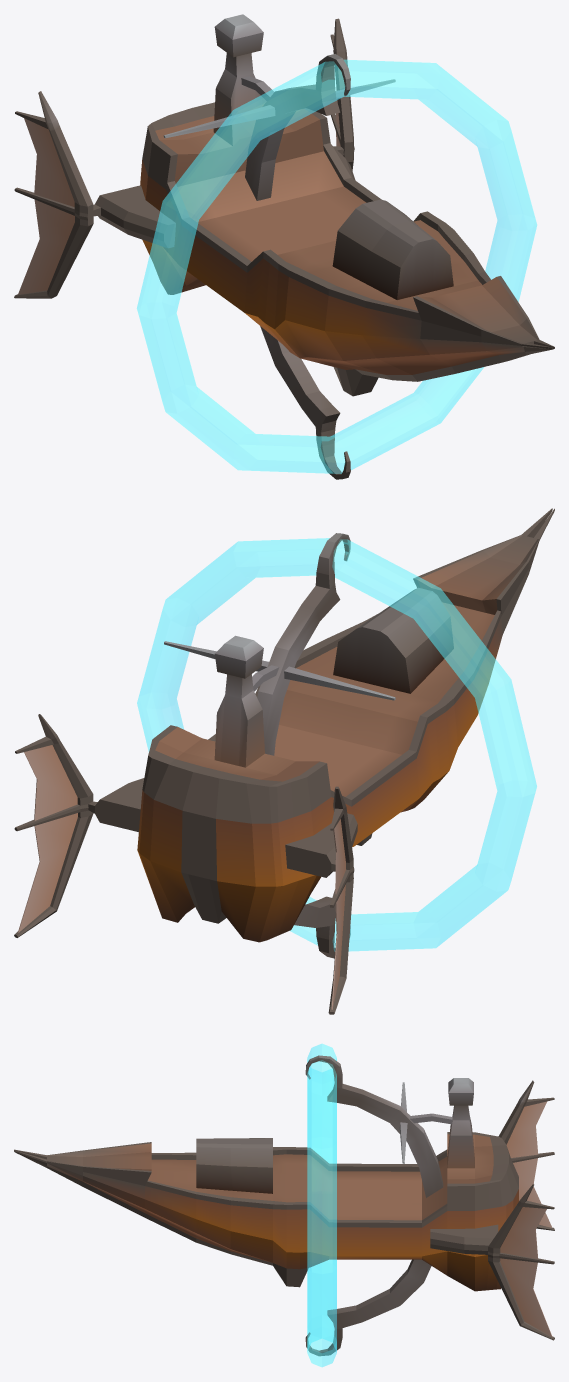
File: fireship1.fbx
3 views of the same model, one above another, from view 1: azimuth 30°, elevation 25°; view 2: azimuth 150°, elevation 25°; view 3: azimuth 270°, elevation 25° (orthographic). The views are drawn at different scales.
Visible parts, largest first — view 1: PlayerShip, PlayerShip.Ring; view 2: PlayerShip, PlayerShip.Ring; view 3: PlayerShip, PlayerShip.Ring.
Part boxes in pixels (left/top/right/bottom): PlayerShip: left=14, top=14, right=554, bottom=479; PlayerShip.Ring: left=137, top=59, right=536, bottom=473; PlayerShip: left=14, top=508, right=554, bottom=1014; PlayerShip.Ring: left=137, top=538, right=536, bottom=951; PlayerShip: left=14, top=1055, right=554, bottom=1356; PlayerShip.Ring: left=307, top=1043, right=336, bottom=1367.
Size of the model in its own units: 905 by 917 by 1505.
